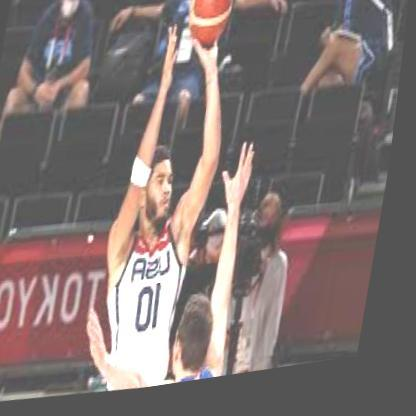basketball: (185, 0, 238, 59)
